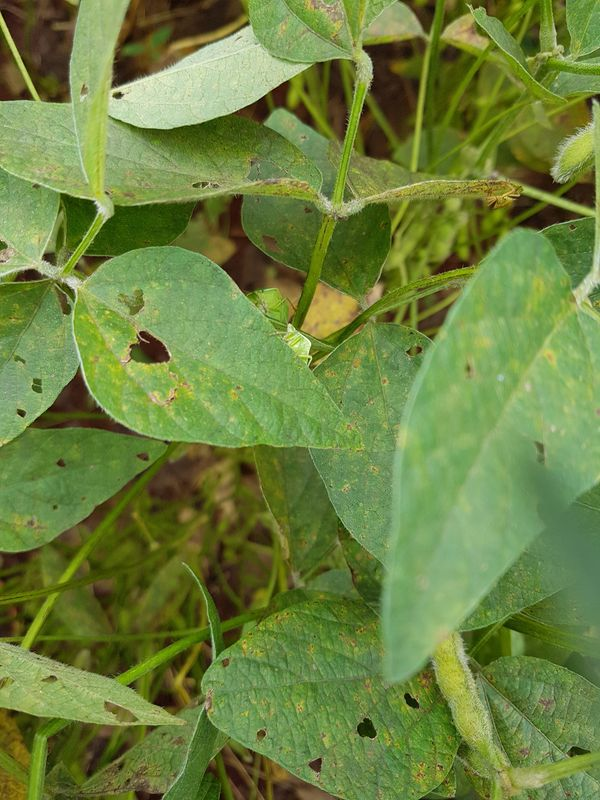Nezara_viridula_adulto: (255, 306, 336, 387)
